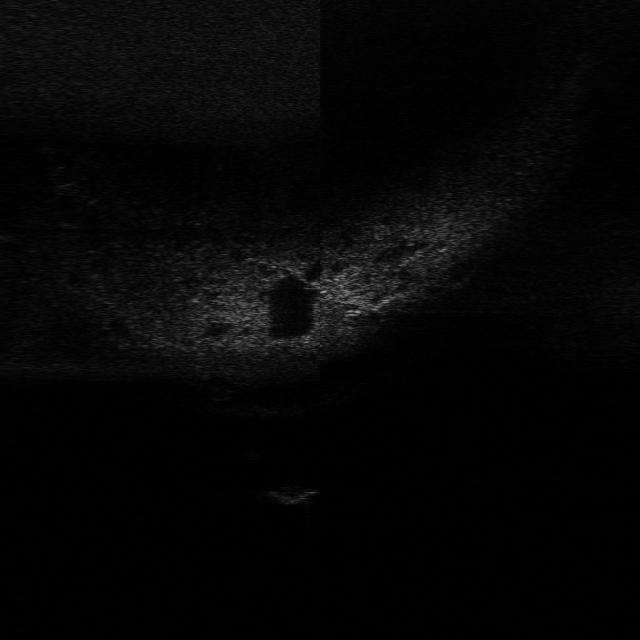cube: (263, 479, 319, 509)
